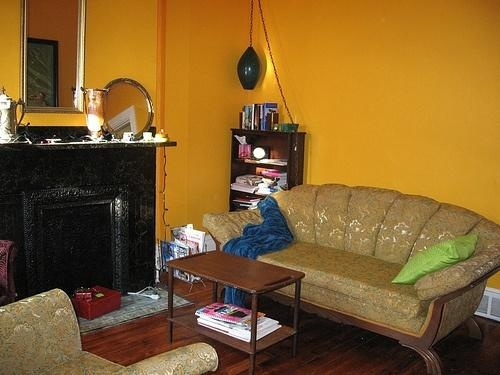chair: (1, 288, 217, 375)
sofa: (203, 180, 496, 375)
